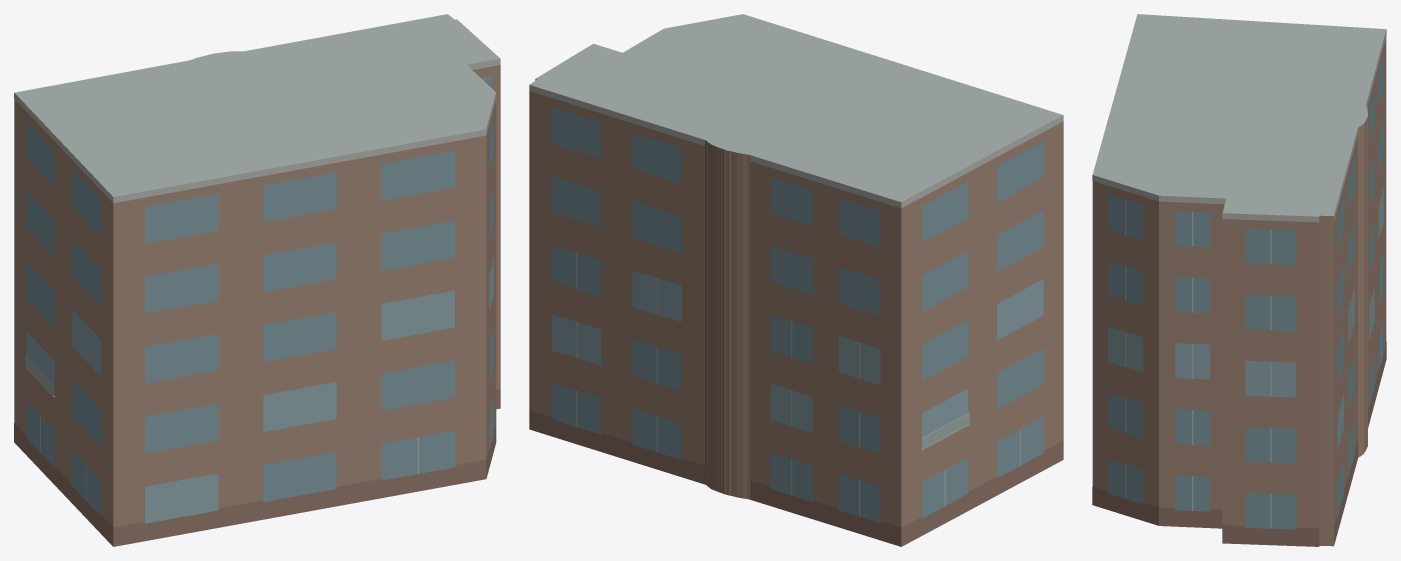
Rendered from survey-upis-32984388.glb.
3 renders of one model, left to right at view 1: azimuth 30°, elevation 25°; view 2: azimuth 150°, elevation 25°; view 3: azimuth 270°, elevation 25°, orthographic. The views are drawn at different scales.
Parts seen in each view (by area): view 1: survey-upis-32984388.tmp; view 2: survey-upis-32984388.tmp; view 3: survey-upis-32984388.tmp.
Part boxes in pixels (<box>): survey-upis-32984388.tmp: <box>14,14,500,546</box>; survey-upis-32984388.tmp: <box>529,14,1063,546</box>; survey-upis-32984388.tmp: <box>1092,14,1386,546</box>.
Bounding box in the file's own units: 18.18 × 13.8 × 11.14.
